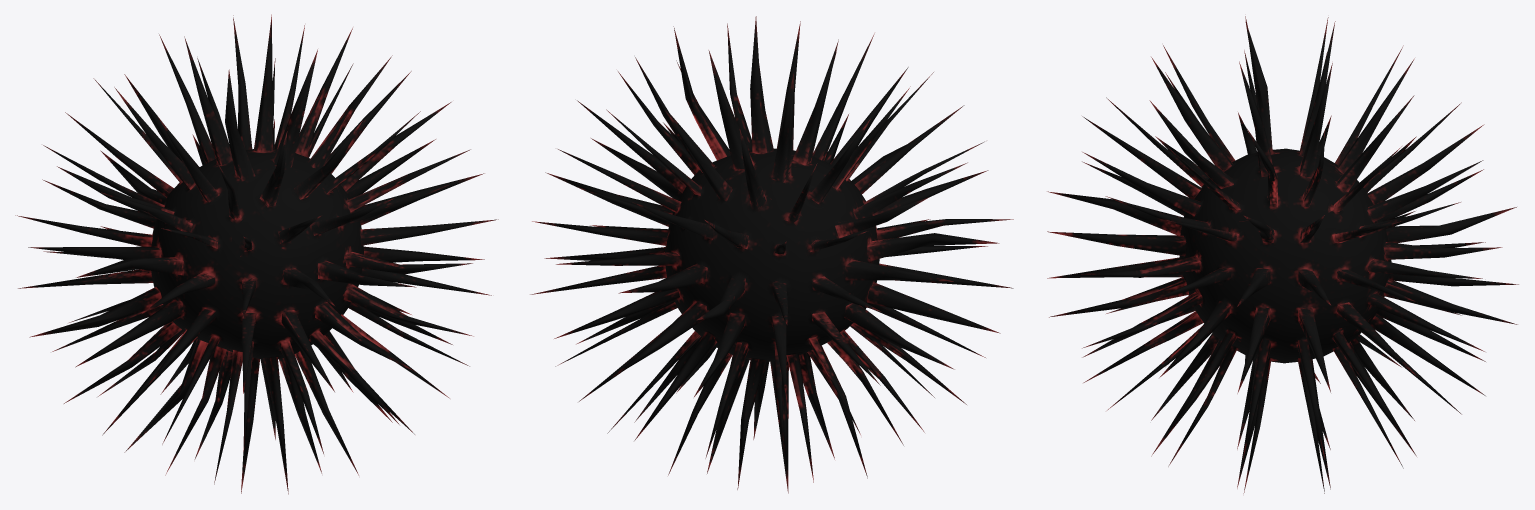
Rendered from urchin.fbx.
3 renders of one model, left to right at view 1: azimuth 30°, elevation 25°; view 2: azimuth 150°, elevation 25°; view 3: azimuth 270°, elevation 25°, orthographic.
Parts seen in each view (by area): view 1: urchin; view 2: urchin; view 3: urchin.
Part boxes in pixels (box(x1,y1,x2,y2)): urchin: box(15, 14, 498, 494); urchin: box(530, 16, 1013, 493); urchin: box(1047, 16, 1518, 493).
Size of the model in its own units: 161 by 160 by 161.
Materials: 1 (1 with a texture image).
